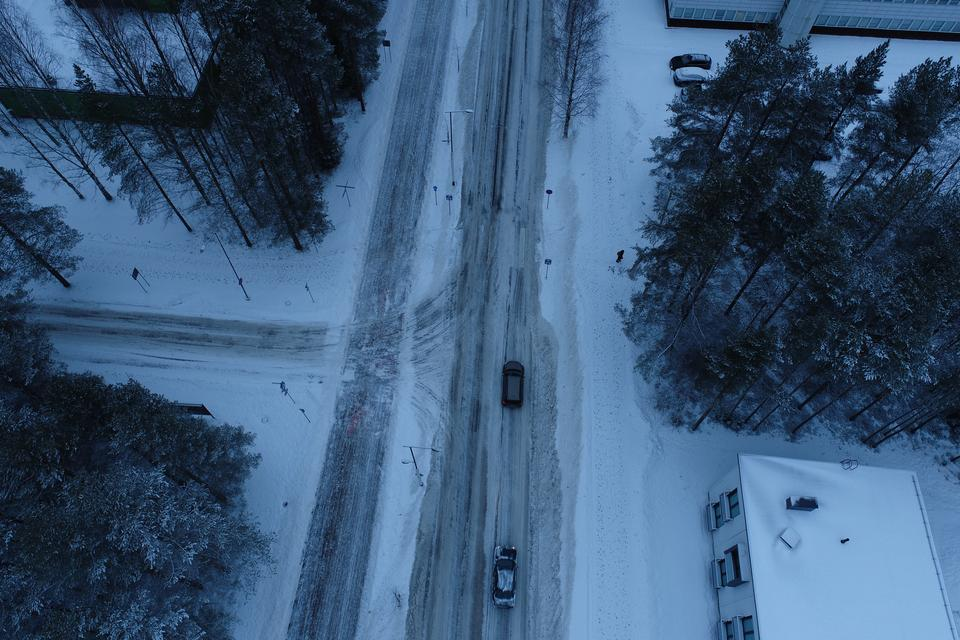intersection: (281, 286, 594, 445)
